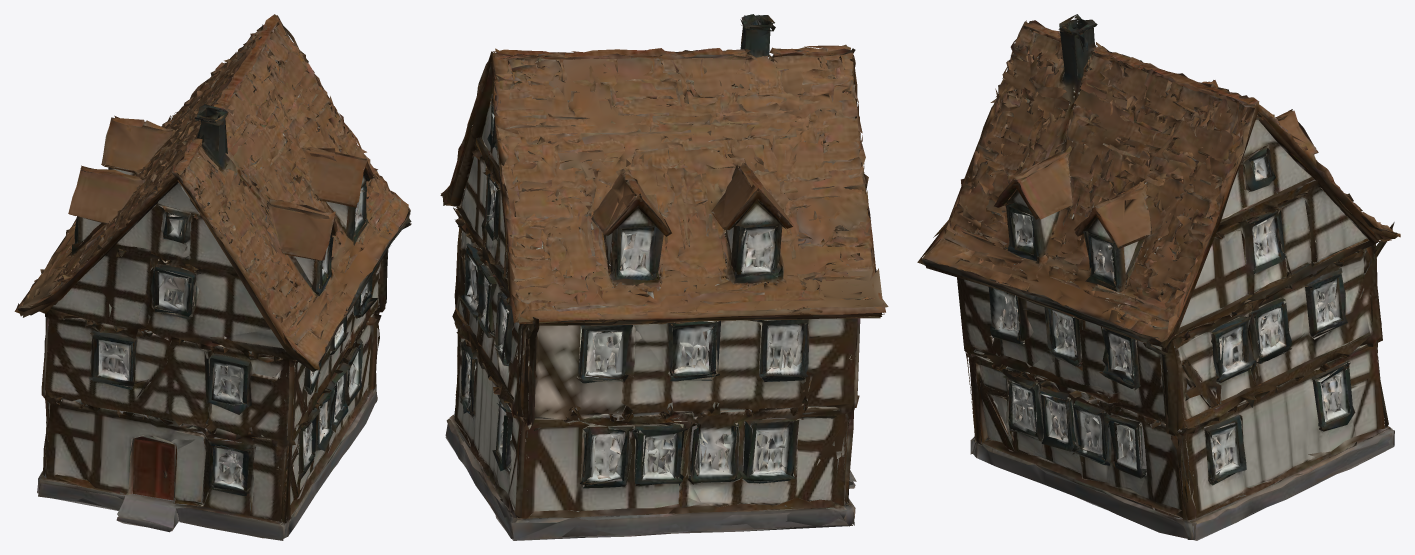
File: v200_pixal3d_haus_00001-1181ab26ac4f.glb
The picture shows the model from 3 angles, left to right: view 1: azimuth 30°, elevation 25°; view 2: azimuth 150°, elevation 25°; view 3: azimuth 270°, elevation 25°; orthographic projection. The views are drawn at different scales.
Visible parts, largest first — view 1: Mesh_0; view 2: Mesh_0; view 3: Mesh_0.
Part boxes in pixels (x1=…): Mesh_0: x1=14, y1=14, x2=411, y2=540; Mesh_0: x1=440, y1=14, x2=888, y2=540; Mesh_0: x1=917, y1=14, x2=1400, y2=540.
Bounding box in the file's own units: 0.8732 × 0.843 × 0.8749.
Materials: 1 (1 with a texture image).
